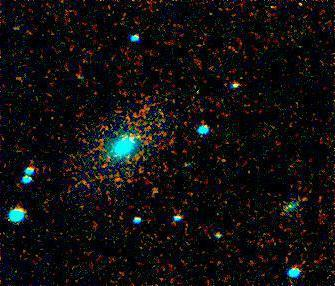star: (124, 118, 154, 148)
